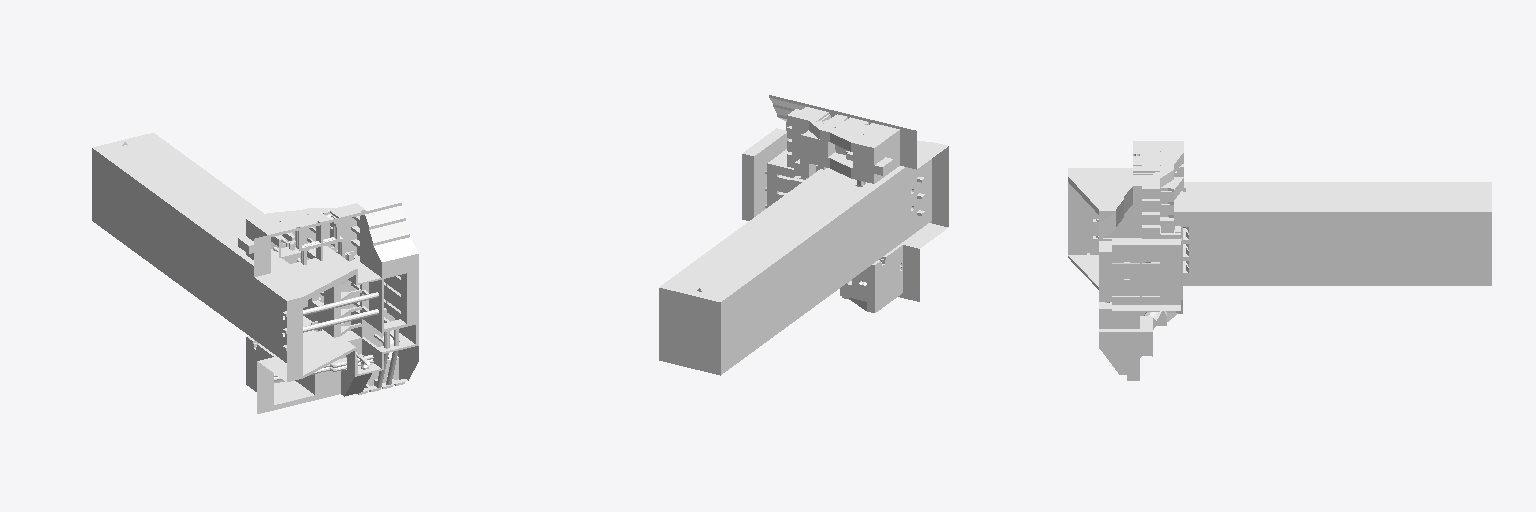
Rendered from damnation.obj.
3 views of the same model, side by side, from view 1: azimuth 30°, elevation 25°; view 2: azimuth 150°, elevation 25°; view 3: azimuth 270°, elevation 25° (orthographic).
Visible parts, largest first — view 1: damnation; view 2: damnation; view 3: damnation.
Boxes of the visible parts, x1,y1,x2,y2 form: damnation: [92, 133, 418, 413]; damnation: [659, 95, 948, 375]; damnation: [1068, 141, 1491, 380].
Bounding box in the file's own units: 2797 × 3187 × 6820.